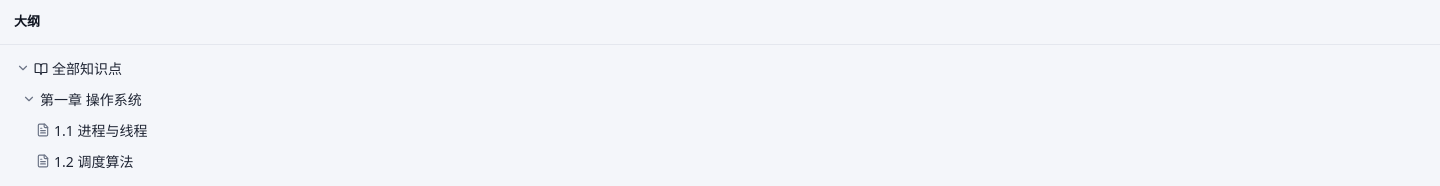
Test: KnowledgeTreeNav › toggles collapse and expand on node toggle button click
Click the button named "折叠全篇".
click(23, 68)  # box [16,61,30,75]
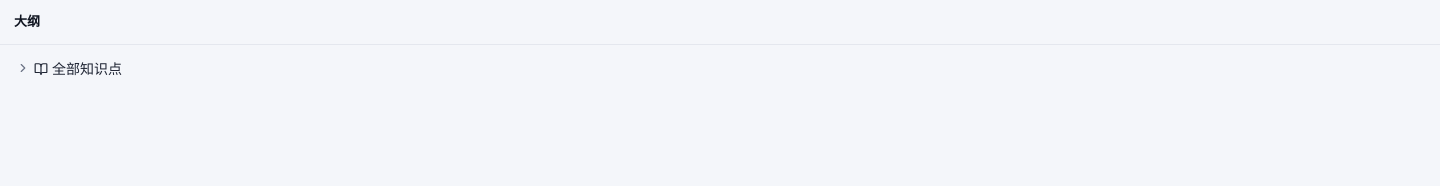
Now the button "第一章 操作系统" is gone
